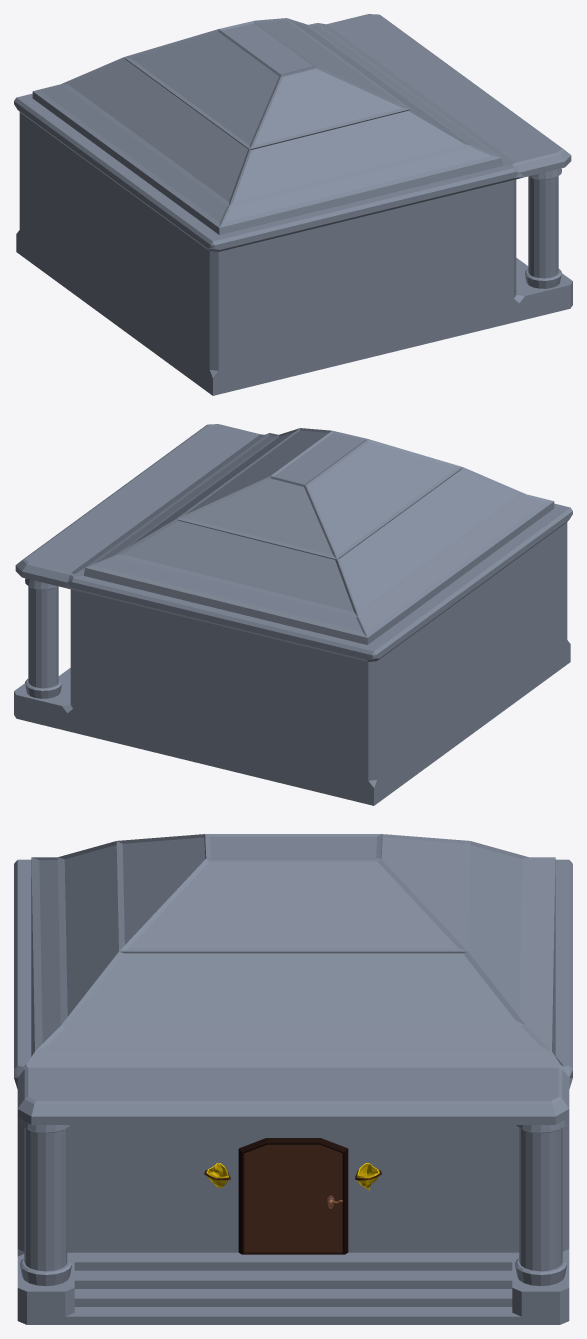
File: Mausoleum.fbx
The picture shows the model from 3 angles, top to bottom: view 1: azimuth 30°, elevation 25°; view 2: azimuth 150°, elevation 25°; view 3: azimuth 270°, elevation 25°; orthographic projection. The views are drawn at different scales.
Visible parts, largest first — view 1: Cube, Cube.004, Cylinder, Cube.010; view 2: Cube, Cube.004, Cylinder.001, Cube.009; view 3: Cube, Cube.004, Cube.001, Cube.006, Cube.005, Cube.008, Cube.007, Cylinder, Cylinder.001, Cube.010, Cube.009.
Boxes of the visible parts, <box> form: Cube: <box>14,18,524,395</box>; Cube.004: <box>327,14,571,176</box>; Cylinder: <box>525,168,561,288</box>; Cube.010: <box>516,273,572,320</box>; Cube: <box>62,428,572,805</box>; Cube.004: <box>15,424,259,586</box>; Cylinder.001: <box>25,578,61,698</box>; Cube.009: <box>14,683,70,730</box>; Cube: <box>14,834,572,1256</box>; Cube.004: <box>17,1067,569,1124</box>; Cube.001: <box>238,1138,348,1254</box>; Cube.006: <box>74,1270,512,1288</box>; Cube.005: <box>74,1252,512,1270</box>; Cube.008: <box>66,1307,520,1324</box>; Cube.007: <box>74,1289,512,1306</box>; Cylinder: <box>19,1119,71,1285</box>; Cylinder.001: <box>514,1119,567,1285</box>; Cube.010: <box>17,1252,83,1324</box>; Cube.009: <box>503,1252,569,1324</box>.
Size of the model in its own units: 1610 by 1005 by 1520.
